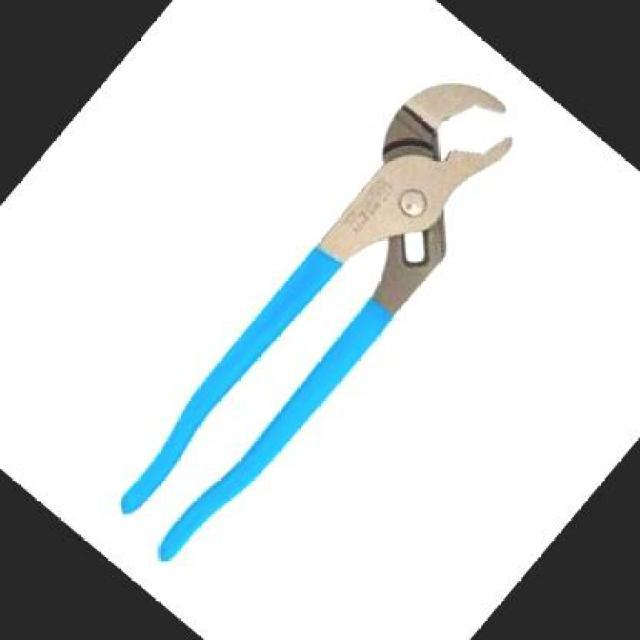pliers: (39, 28, 592, 628)
